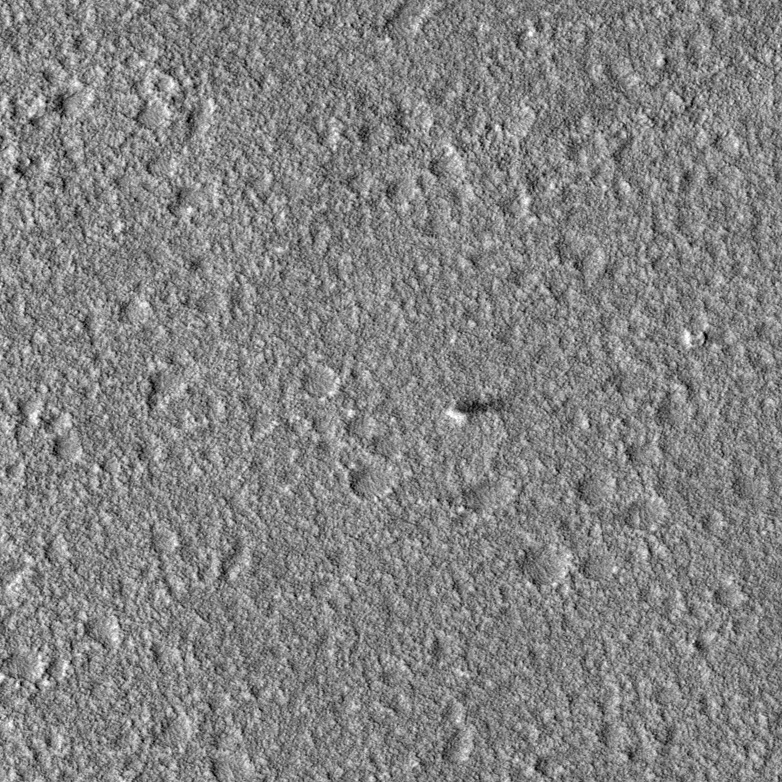dust_devil: (443, 392, 513, 428)
